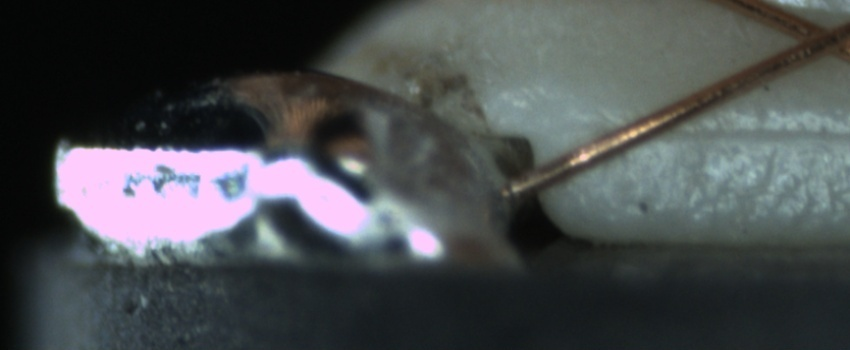CL: (776, 6, 849, 65)
DL: (608, 97, 845, 164)
